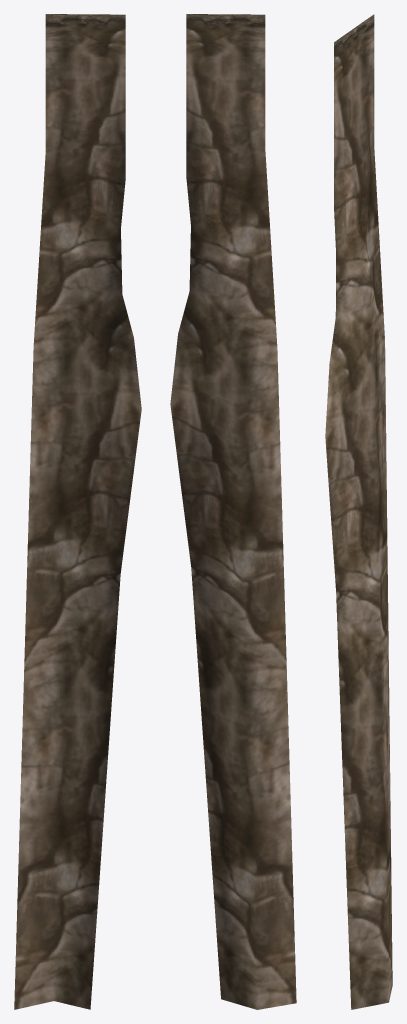
Rendered from OVERHILL_A_01_LINE81.fbx.
The picture shows the model from 3 angles, left to right: view 1: azimuth 30°, elevation 25°; view 2: azimuth 210°, elevation 25°; view 3: azimuth 270°, elevation 25°; orthographic projection.
Visible parts, largest first — view 1: OVERHILL_A_01_LINE81; view 2: OVERHILL_A_01_LINE81; view 3: OVERHILL_A_01_LINE81.
Part boxes in pixels (<box>): OVERHILL_A_01_LINE81: <box>14,14,141,1009</box>; OVERHILL_A_01_LINE81: <box>170,14,296,1009</box>; OVERHILL_A_01_LINE81: <box>325,14,392,1009</box>.
Size of the model in its own units: 20569 by 210090 by 13056.
Materials: 2 (2 with a texture image).
